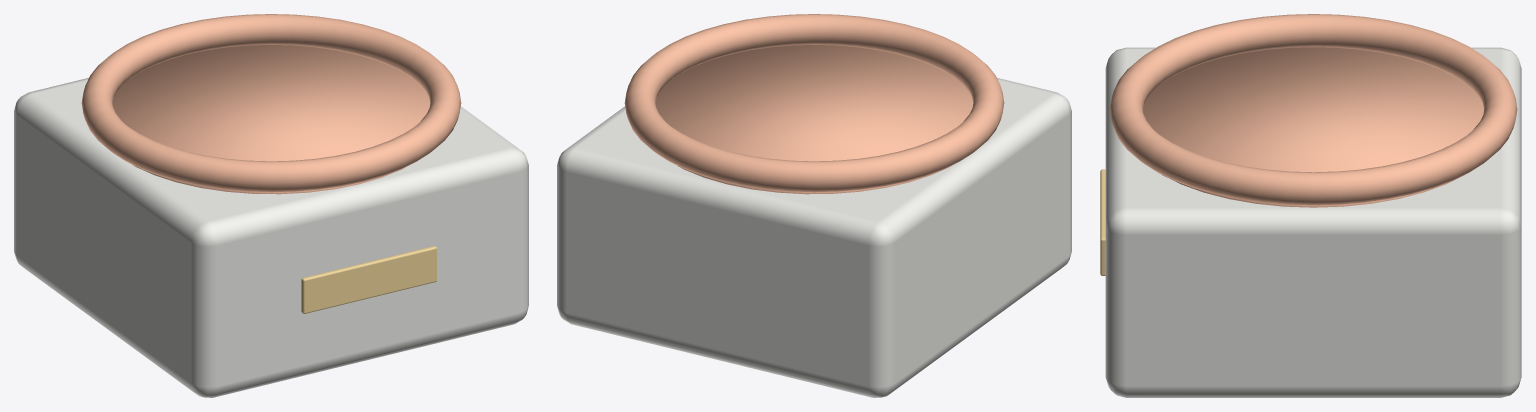
Rendered from lapidary_polisher.gltf.
3 views of the same model, side by side, from view 1: azimuth 30°, elevation 25°; view 2: azimuth 150°, elevation 25°; view 3: azimuth 270°, elevation 25° (orthographic). The views are drawn at different scales.
Visible parts, largest first — view 1: Housing.002, PanFloor, SplashPan, Badge.001; view 2: Housing.002, PanFloor, SplashPan; view 3: Housing.002, PanFloor, SplashPan, Badge.001.
Boxes of the visible parts, bbox=[...] form: Housing.002: bbox=[14, 19, 528, 397]; PanFloor: bbox=[112, 45, 430, 194]; SplashPan: bbox=[81, 14, 461, 192]; Badge.001: bbox=[301, 246, 436, 313]; Housing.002: bbox=[557, 19, 1071, 397]; PanFloor: bbox=[655, 45, 973, 194]; SplashPan: bbox=[624, 14, 1004, 192]; Housing.002: bbox=[1105, 47, 1521, 397]; PanFloor: bbox=[1143, 47, 1483, 207]; SplashPan: bbox=[1109, 14, 1517, 205]; Badge.001: bbox=[1100, 169, 1105, 275].
Size of the model in its own units: 0.2 by 0.118 by 0.2025.
